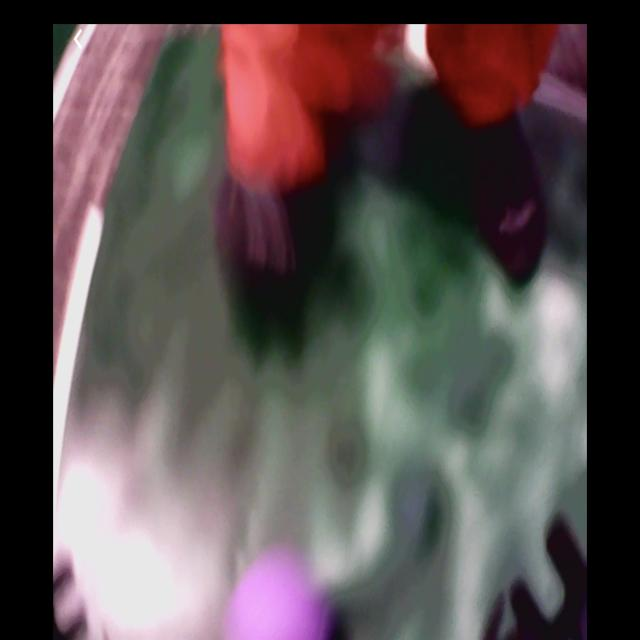ball: (222, 555, 333, 640)
